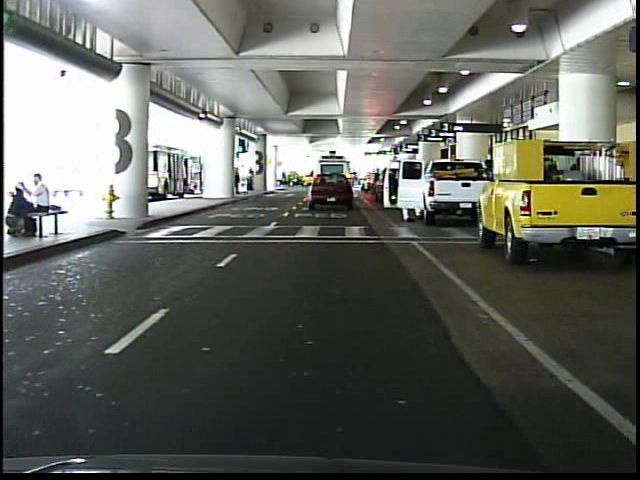person: (246, 167, 258, 194)
